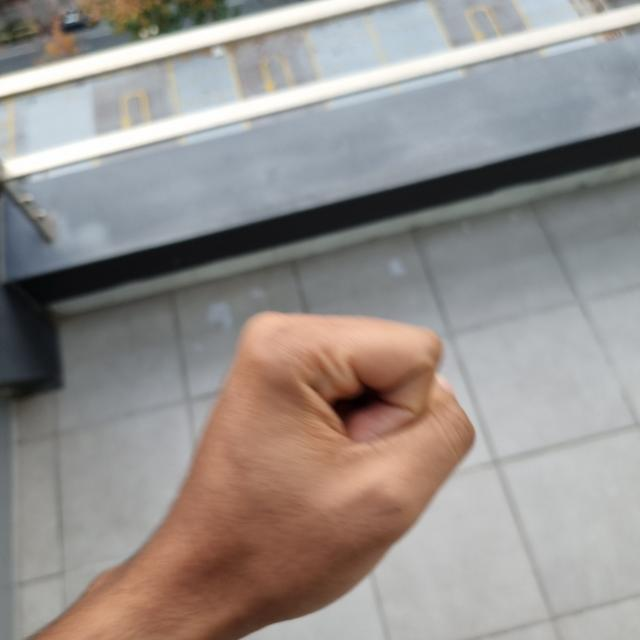Rock: (157, 311, 471, 622)
